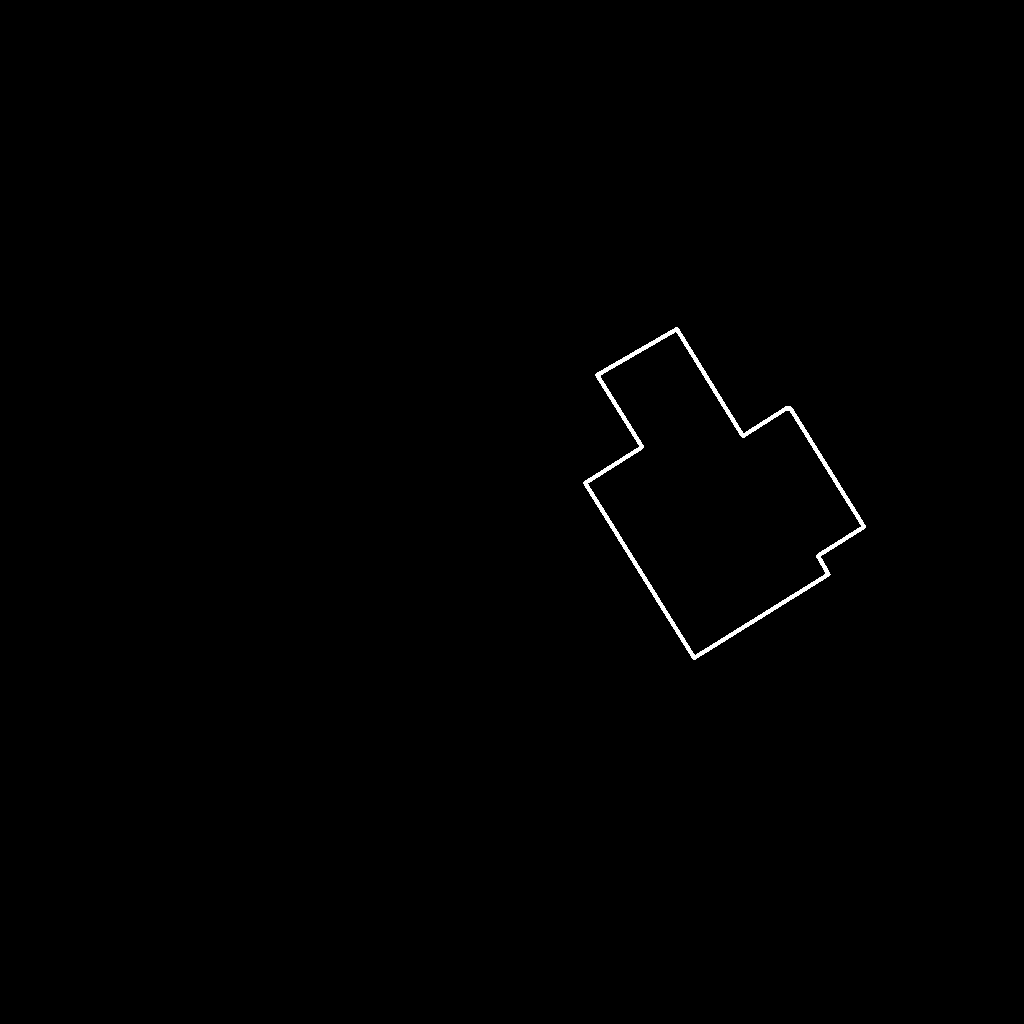building: (585, 329, 865, 659)
